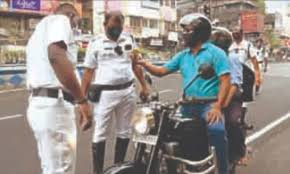mask: (54, 2, 84, 35), (177, 13, 206, 45), (99, 10, 126, 40)
